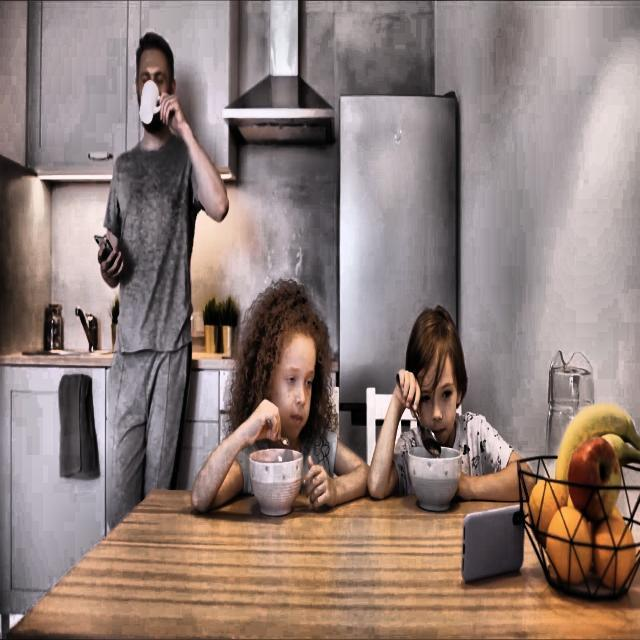Phone: (460, 504, 526, 584), (92, 228, 116, 274)
